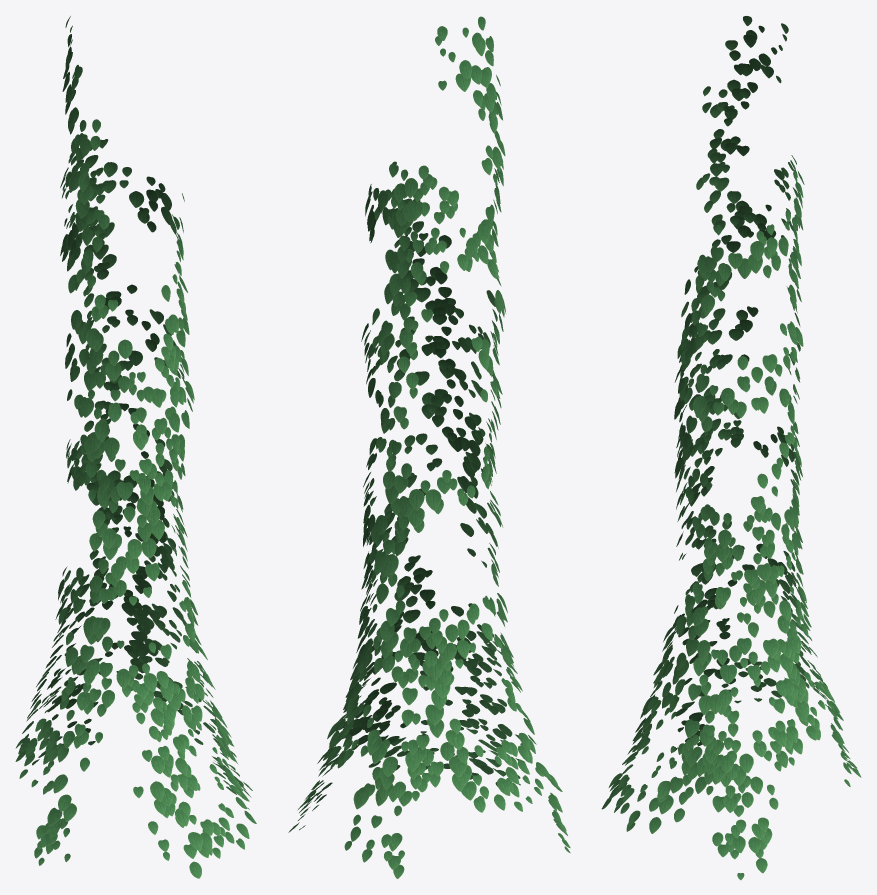
File: ivy_pillar2.fbx
3 views of the same model, side by side, from view 1: azimuth 30°, elevation 25°; view 2: azimuth 150°, elevation 25°; view 3: azimuth 270°, elevation 25° (orthographic). The views are drawn at different scales.
Parts seen in each view (by area): view 1: iveLeaf_4.061; view 2: iveLeaf_4.061; view 3: iveLeaf_4.061.
Part boxes in pixels (<box>): iveLeaf_4.061: <box>15,16,256,878</box>; iveLeaf_4.061: <box>288,16,570,878</box>; iveLeaf_4.061: <box>601,16,861,880</box>.
Size of the model in its own units: 702 by 2318 by 701.
